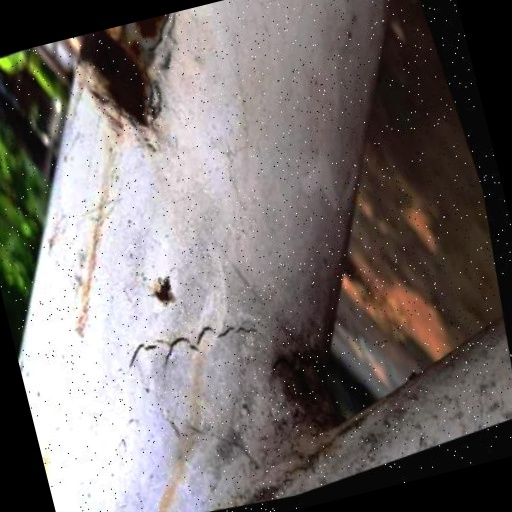crack: (106, 289, 279, 399)
